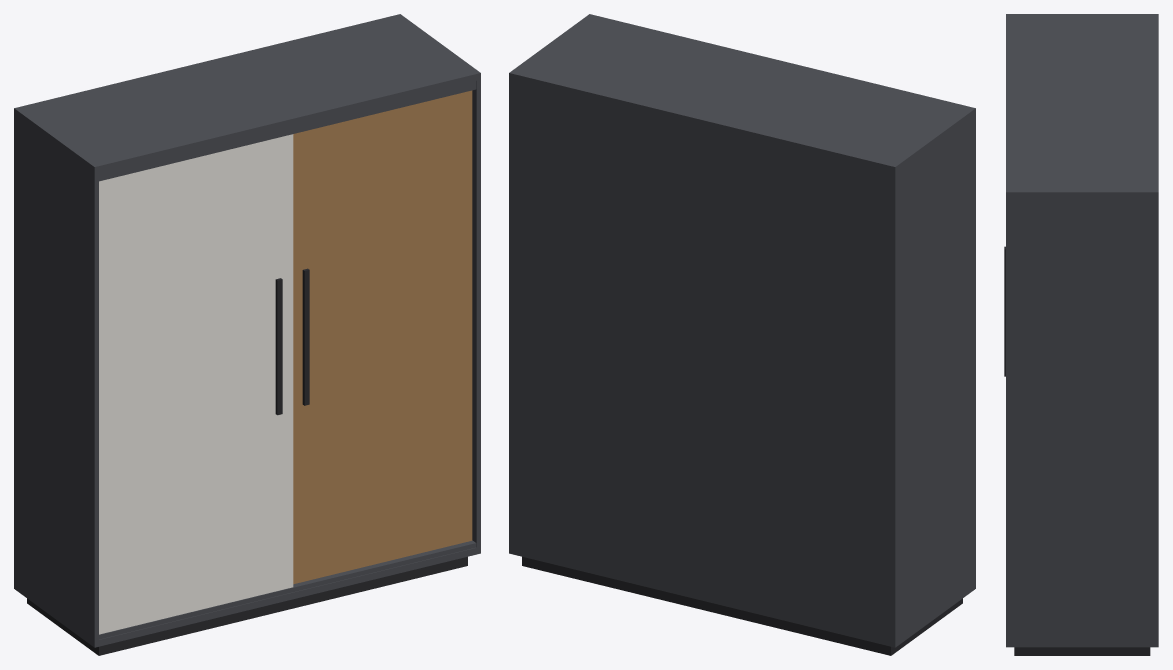
Rendered from FN_Wardrobe_Sliding.obj.
3 renders of one model, left to right at view 1: azimuth 30°, elevation 25°; view 2: azimuth 150°, elevation 25°; view 3: azimuth 270°, elevation 25°, orthographic. The views are drawn at different scales.
Parts seen in each view (by area): view 1: FN_Wardrobe_Sliding; view 2: FN_Wardrobe_Sliding; view 3: FN_Wardrobe_Sliding.
Part boxes in pixels (x1=…): FN_Wardrobe_Sliding: x1=14, y1=14, x2=480, y2=655; FN_Wardrobe_Sliding: x1=509, y1=14, x2=975, y2=655; FN_Wardrobe_Sliding: x1=1004, y1=14, x2=1158, y2=655.
Bounding box in the file's own units: 1.8 × 2.2 × 0.657.
1 material, 1 textured.
